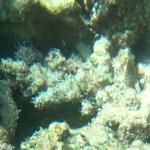dead: (5, 1, 148, 146)
